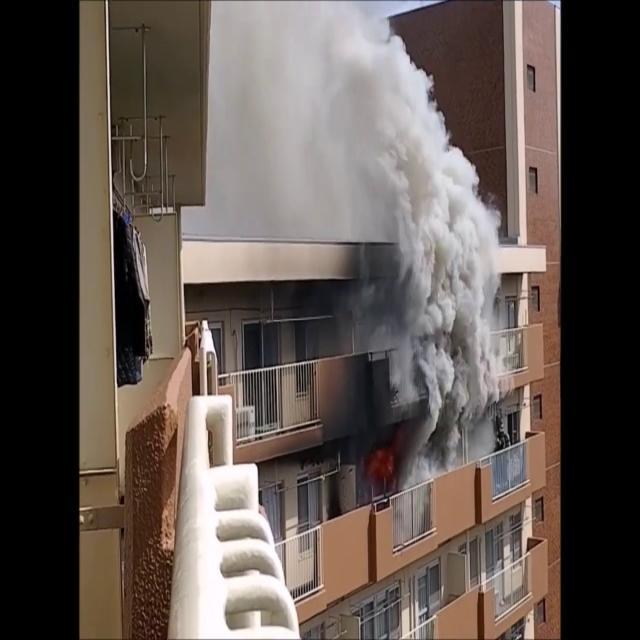Smoke: (215, 6, 510, 443)
